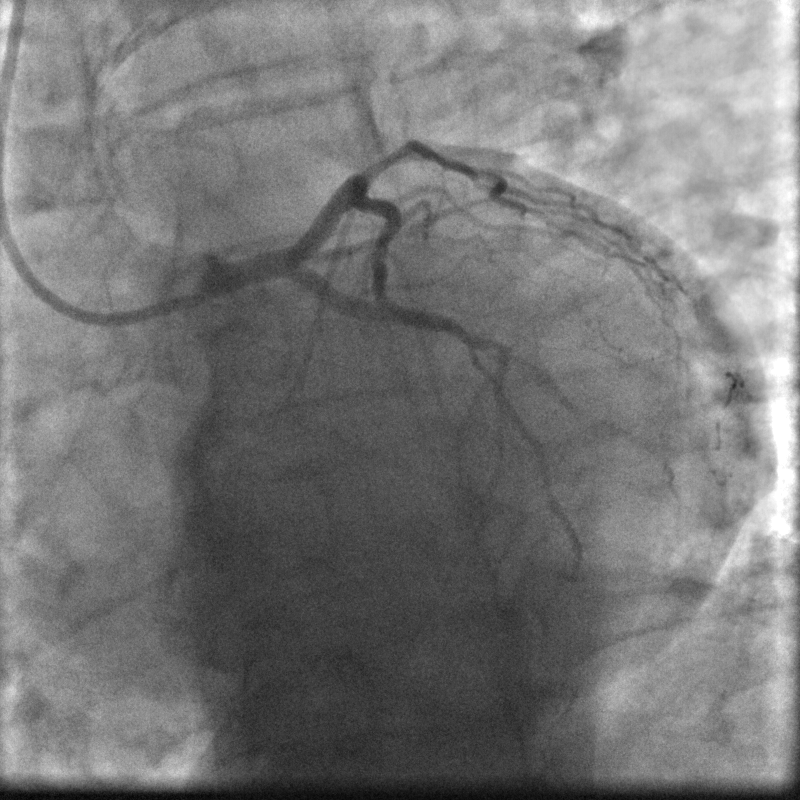Stenosis: (353, 134, 419, 179)
